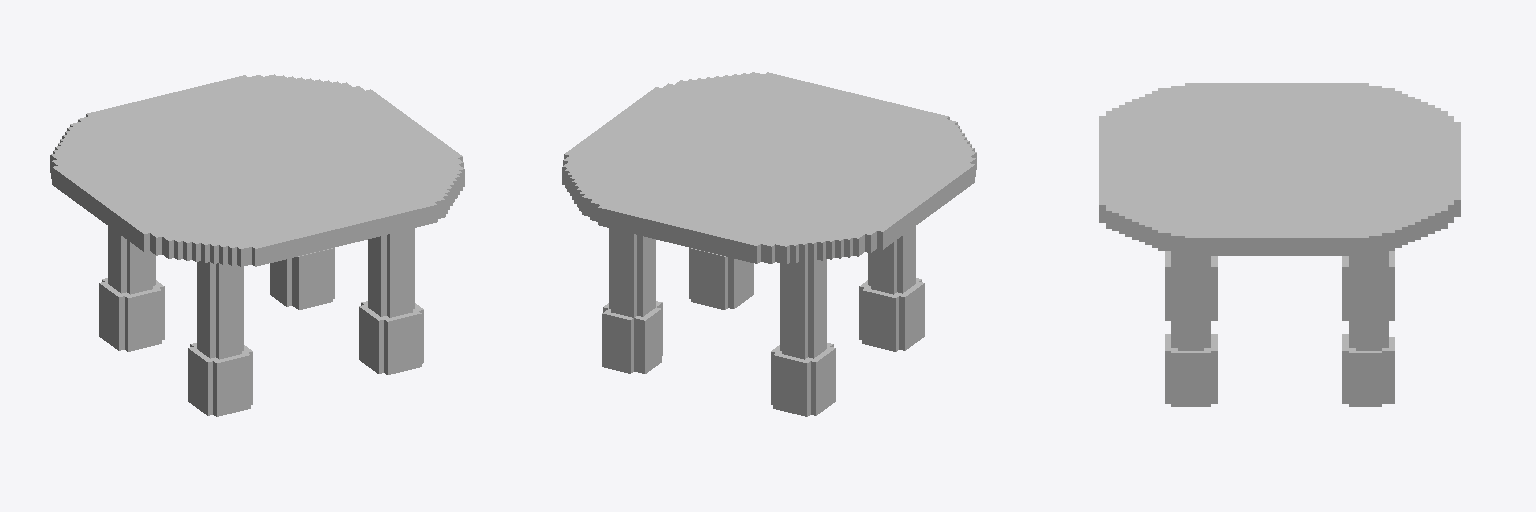
The model's file is Chair2.obj.
The picture shows the model from 3 angles: view 1: azimuth 30°, elevation 25°; view 2: azimuth 150°, elevation 25°; view 3: azimuth 270°, elevation 25°; orthographic projection.
Visible parts, largest first — view 1: object 1; view 2: object 1; view 3: object 1.
Boxes of the visible parts, x1=… form: object 1: x1=50, y1=74, x2=464, y2=416; object 1: x1=562, y1=72, x2=976, y2=416; object 1: x1=1099, y1=83, x2=1460, y2=406.
Size of the model in its own units: 5.6 by 3.2 by 5.5.